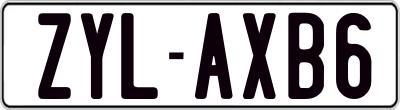6: (334, 13, 375, 103)
A: (194, 13, 232, 102)
B: (287, 10, 326, 99)
L: (121, 10, 164, 99)
X: (241, 13, 279, 99)
Y: (80, 11, 113, 102)
Z: (36, 13, 70, 101)
